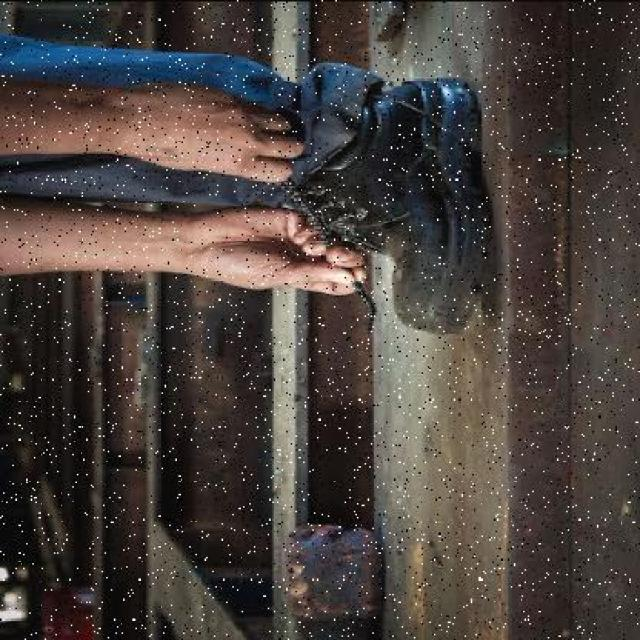shoes: (296, 74, 486, 328)
